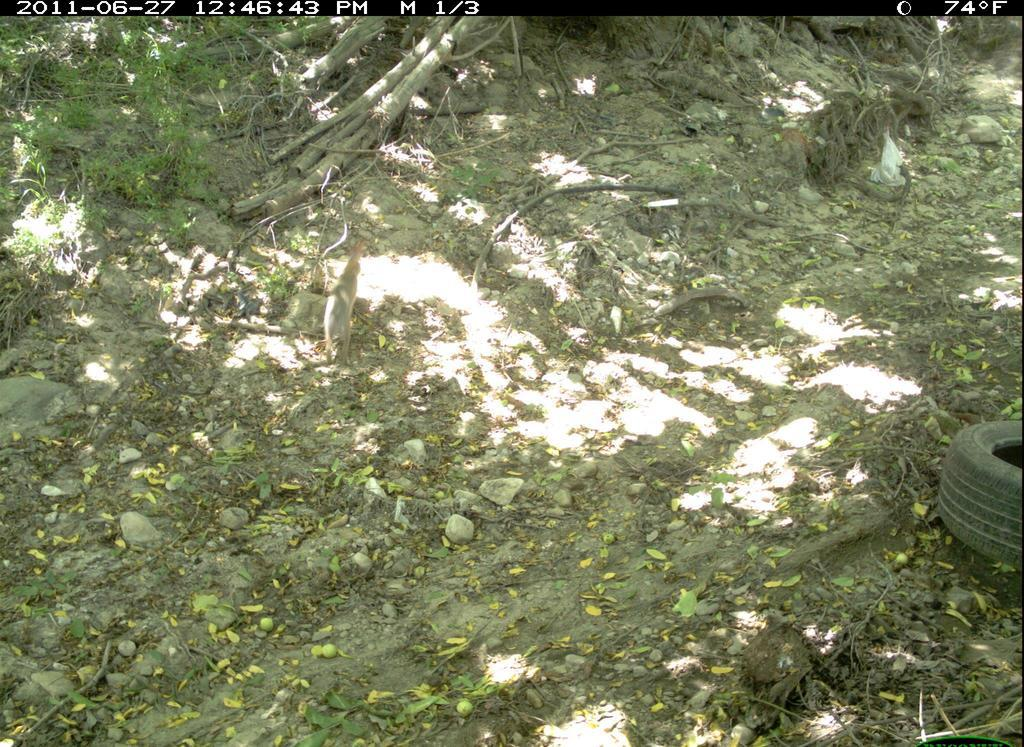rabbit: (309, 228, 381, 385)
